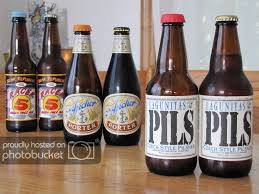bottle: (199, 9, 259, 180), (146, 9, 199, 178), (101, 19, 145, 151), (62, 18, 104, 147), (31, 10, 74, 133), (2, 7, 40, 135)
